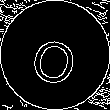O_N: (27, 25, 83, 85)
